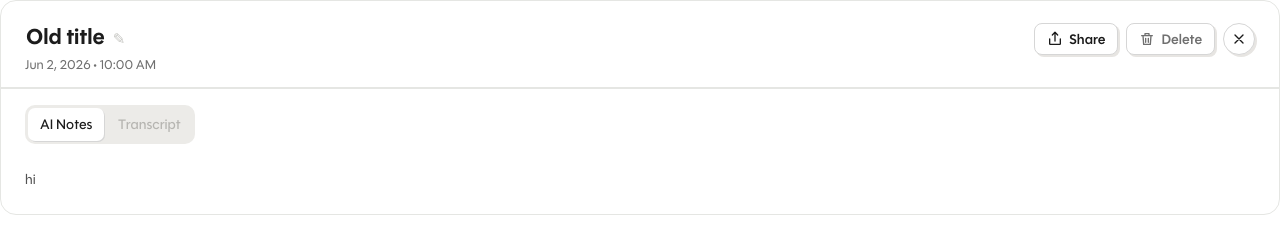
Test: MeetingDetailView inline title editing › commits a valid draft on blur
Click the button with class "head-title" at coordinates (76, 37), box x1=17 y1=20 x2=134 y2=54
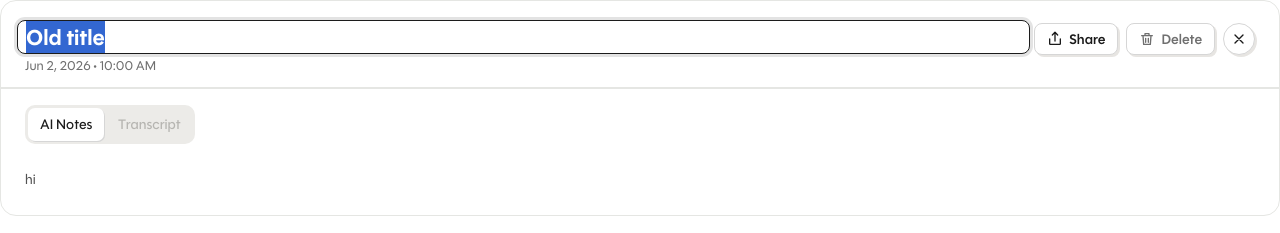
Replace the text in the field with class "head-title--input" with "Blur saved" at coordinates (523, 37), box x1=17 y1=20 x2=1030 y2=54
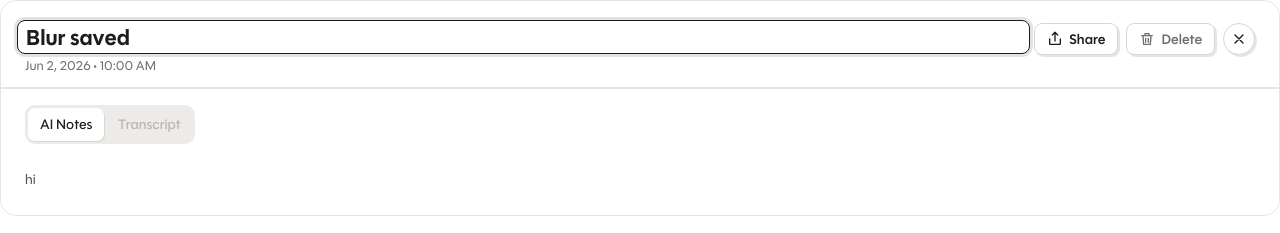
Leave the field with class "head-title--input", box x1=17 y1=20 x2=1030 y2=54
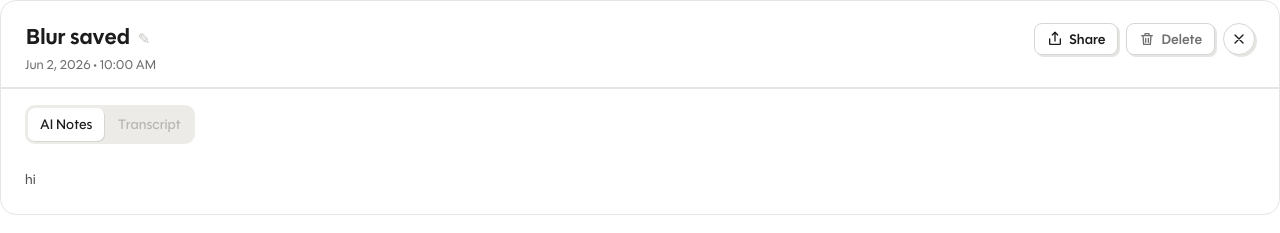
Expected: the button with class "head-title" reads "Blur saved", x1=26 y1=20 x2=130 y2=53
